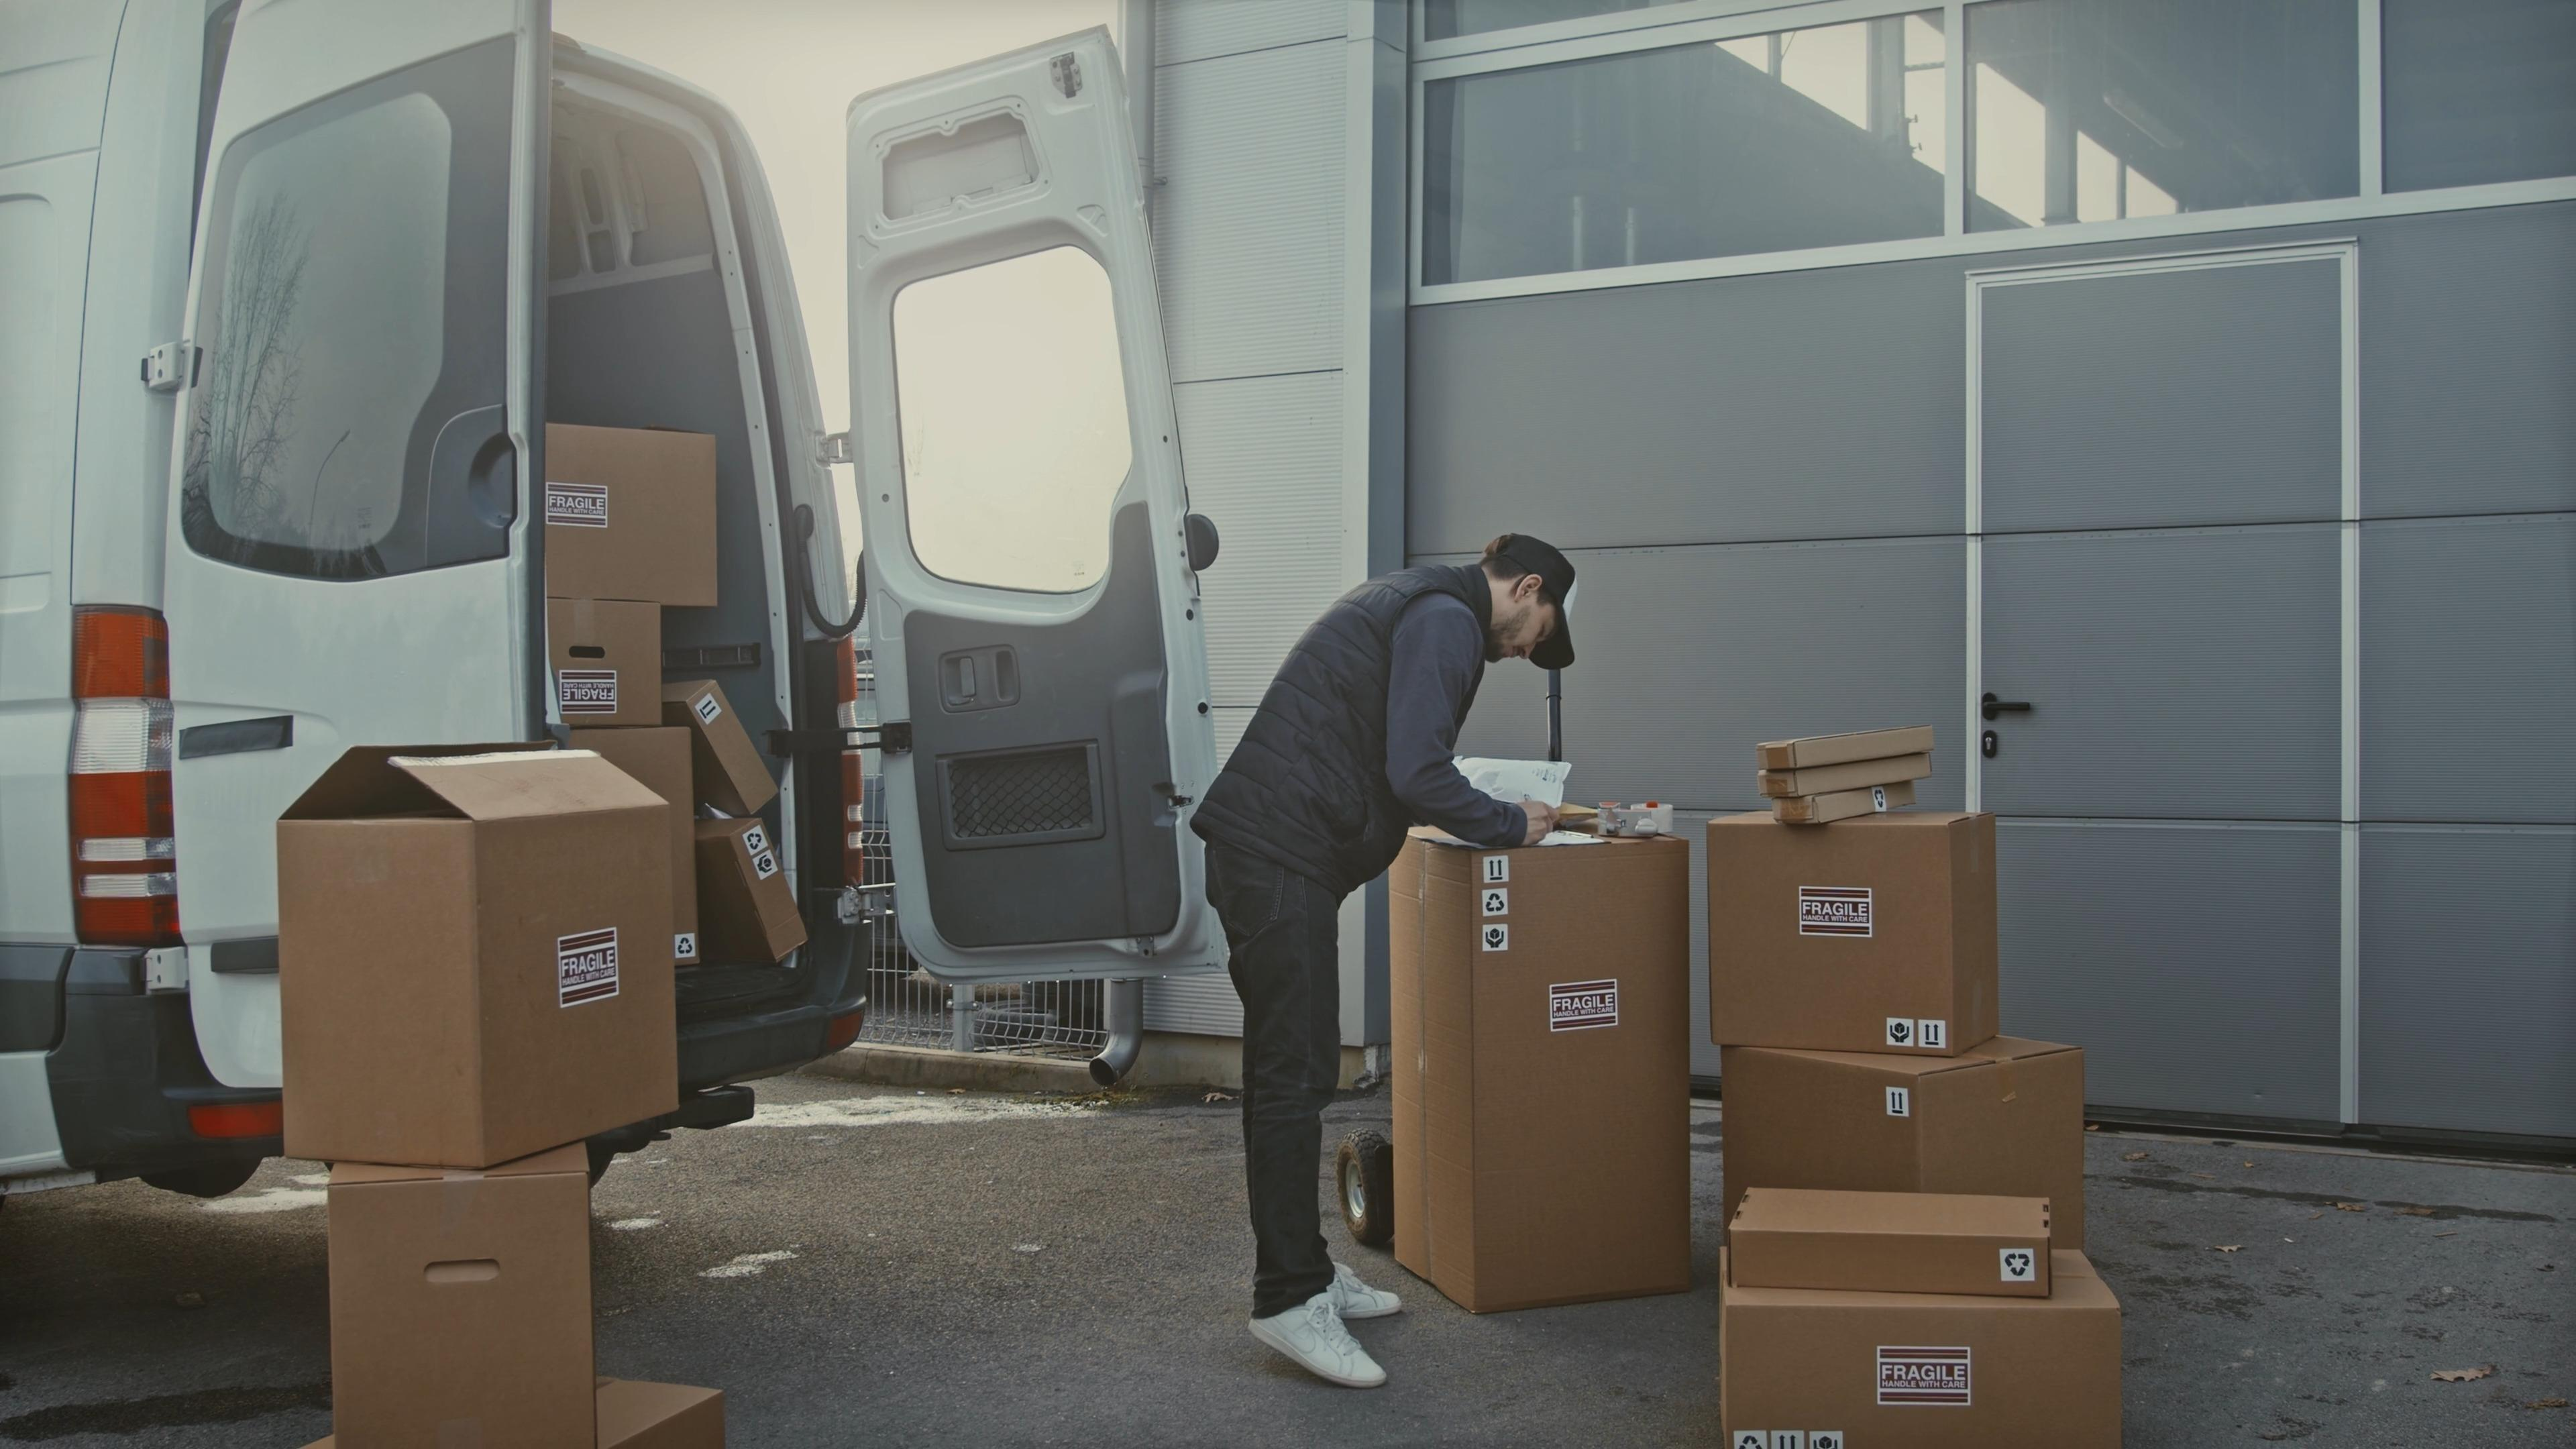-: (280, 741, 678, 1164), (1389, 830, 1697, 1313), (326, 1168, 605, 1449), (1702, 816, 2017, 1063), (1718, 1265, 2125, 1449), (1736, 1060, 2089, 1203), (1729, 1182, 2054, 1293), (547, 430, 718, 621), (540, 616, 671, 736)
